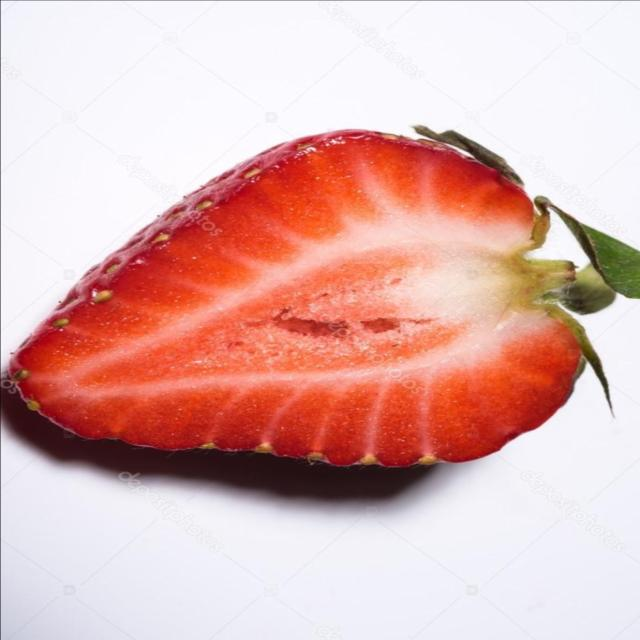strawberry: (0, 115, 640, 482)
